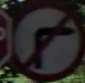Don't turn right: (9, 14, 75, 75)
